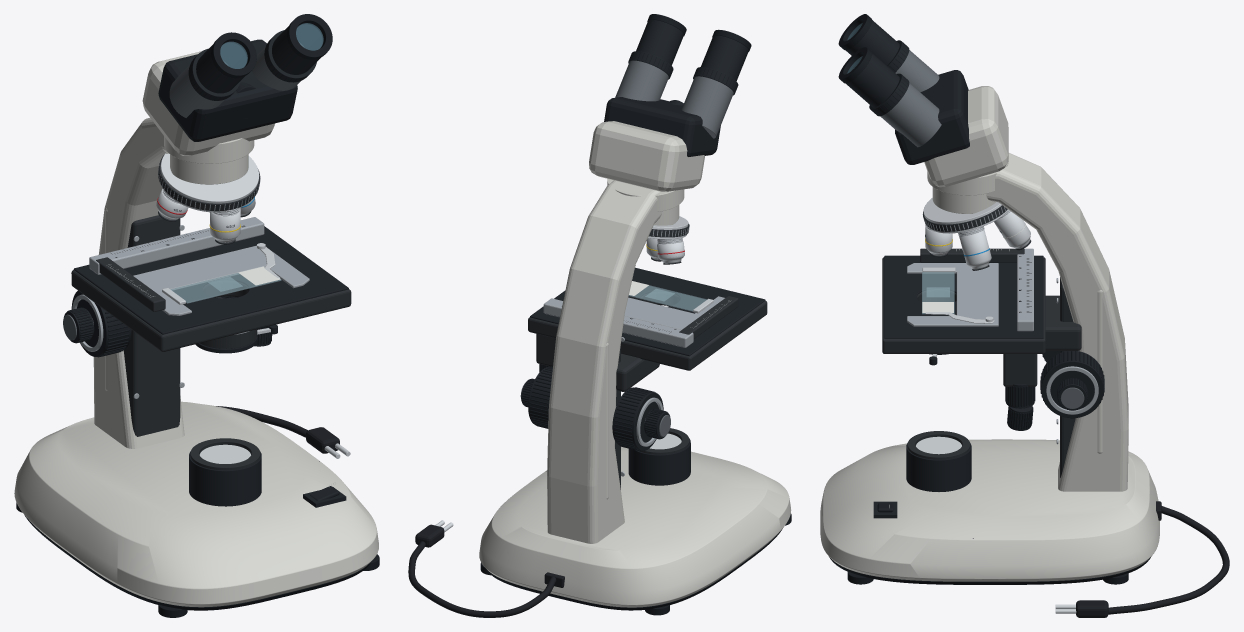
The model's file is microscopi-optic-complet.glb.
3 renders of one model, left to right at view 1: azimuth 30°, elevation 25°; view 2: azimuth 150°, elevation 25°; view 3: azimuth 270°, elevation 25°, orthographic. The views are drawn at different scales.
Visible parts, largest first — view 1: MIC_Base, MIC_Braç, MIC_Platina_Superficie, MIC_Columna, MIC_Platina, MIC_Capçal_Binocular, MIC_Guia_Mostra, MIC_Carro_X_Guia, MIC_Capçal, MIC_Font_Llum_Carcassa, MIC_Revolver_Cos, MIC_Tub_Optic (+22 smaller); view 2: MIC_Base, MIC_Braç, MIC_Capçal, MIC_Platina_Superficie, MIC_Capçal_Binocular, MIC_Platina, MIC_Font_Llum_Carcassa, MIC_Tub_Binocular_Esquerre, MIC_Enfocament_Macro_Esquerre_Cos, MIC_Cable, MIC_Tub_Binocular_Dret, MIC_Carro_X_Guia (+12 smaller); view 3: MIC_Base, MIC_Braç, MIC_Platina_Superficie, MIC_Capçal, MIC_Capçal_Binocular, MIC_Platina, MIC_Guia_Mostra, MIC_Font_Llum_Carcassa, MIC_Tub_Binocular_Dret, MIC_Enfocament_Macro_Dret_Cos, MIC_Cable, MIC_Ocular_Dret_Cos (+23 smaller).
Boxes of the visible parts, bbox=[...] form: MIC_Base: bbox=[14, 401, 378, 607]; MIC_Braç: bbox=[93, 117, 184, 448]; MIC_Platina_Superficie: bbox=[73, 226, 348, 334]; MIC_Columna: bbox=[123, 215, 180, 436]; MIC_Platina: bbox=[71, 270, 351, 351]; MIC_Capçal_Binocular: bbox=[158, 39, 297, 141]; MIC_Guia_Mostra: bbox=[133, 245, 309, 315]; MIC_Carro_X_Guia: bbox=[89, 217, 264, 274]; MIC_Capçal: bbox=[142, 51, 274, 155]; MIC_Font_Llum_Carcassa: bbox=[189, 451, 261, 506]; MIC_Revolver_Cos: bbox=[160, 153, 259, 212]; MIC_Tub_Optic: bbox=[170, 154, 248, 184]; MIC_Base: bbox=[479, 446, 791, 607]; MIC_Braç: bbox=[547, 180, 661, 543]; MIC_Capçal: bbox=[589, 121, 704, 191]; MIC_Platina_Superficie: bbox=[530, 267, 765, 356]; MIC_Capçal_Binocular: bbox=[604, 97, 720, 156]; MIC_Platina: bbox=[528, 293, 767, 370]; MIC_Font_Llum_Carcassa: bbox=[628, 438, 690, 485]; MIC_Tub_Binocular_Esquerre: bbox=[681, 76, 733, 138]; MIC_Enfocament_Macro_Esquerre_Cos: bbox=[612, 387, 663, 450]; MIC_Cable: bbox=[408, 520, 556, 617]; MIC_Tub_Binocular_Dret: bbox=[615, 60, 668, 101]; MIC_Carro_X_Guia: bbox=[543, 298, 693, 347]; MIC_Base: bbox=[820, 439, 1159, 581]; MIC_Braç: bbox=[986, 153, 1128, 491]; MIC_Platina_Superficie: bbox=[884, 255, 1043, 338]; MIC_Capçal: bbox=[924, 86, 1008, 187]; MIC_Capçal_Binocular: bbox=[895, 70, 969, 164]; MIC_Platina: bbox=[882, 257, 1045, 353]; MIC_Guia_Mostra: bbox=[907, 263, 998, 326]; MIC_Font_Llum_Carcassa: bbox=[906, 442, 971, 491]; MIC_Tub_Binocular_Dret: bbox=[880, 83, 941, 147]; MIC_Enfocament_Macro_Dret_Cos: bbox=[1041, 351, 1103, 418]; MIC_Cable: bbox=[1055, 505, 1229, 614]; MIC_Ocular_Dret_Cos: bbox=[846, 53, 899, 107].
Size of the model in its own units: 0.2545 by 0.4252 by 0.3131.
